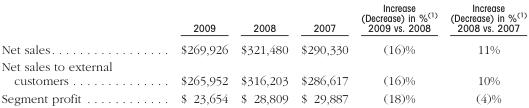table: (0, 1, 526, 104)
table column: (0, 1, 145, 104), (353, 1, 443, 104), (145, 1, 233, 104), (443, 1, 526, 104), (233, 1, 293, 104), (293, 1, 353, 104)
table column header: (0, 1, 526, 37)
table row: (0, 1, 526, 37), (0, 57, 526, 89), (0, 37, 526, 57), (0, 89, 526, 104)
